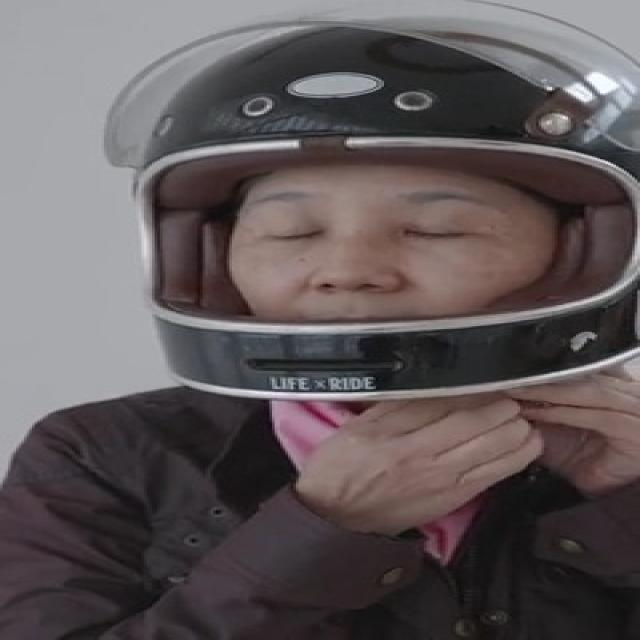Helmet_Wearer: (95, 11, 640, 405)
Person: (0, 14, 640, 618)
